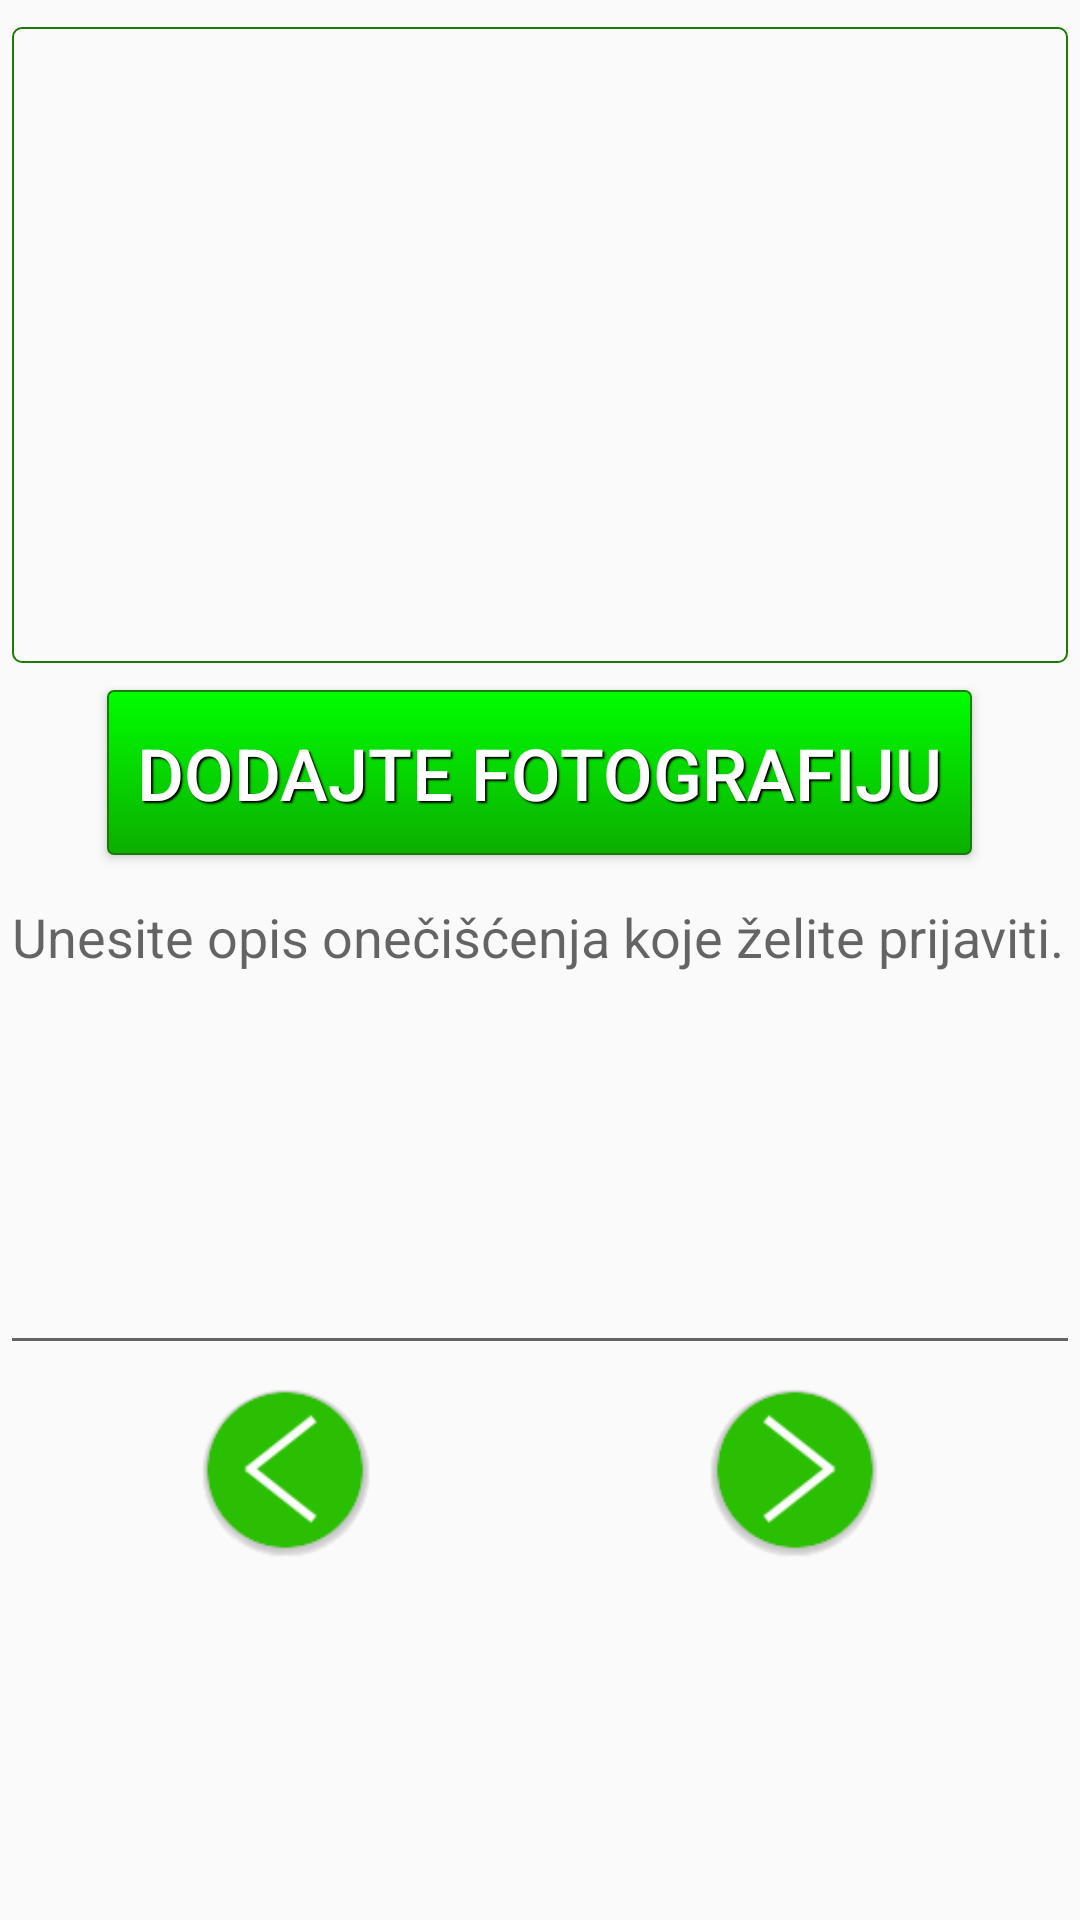

Named icons in this screenshot (1080*1920) and their centers, (x=x, y=y):
arrow left: (x=286, y=1472)
arrow right: (x=794, y=1472)
